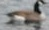goose: (4, 1, 47, 27)
